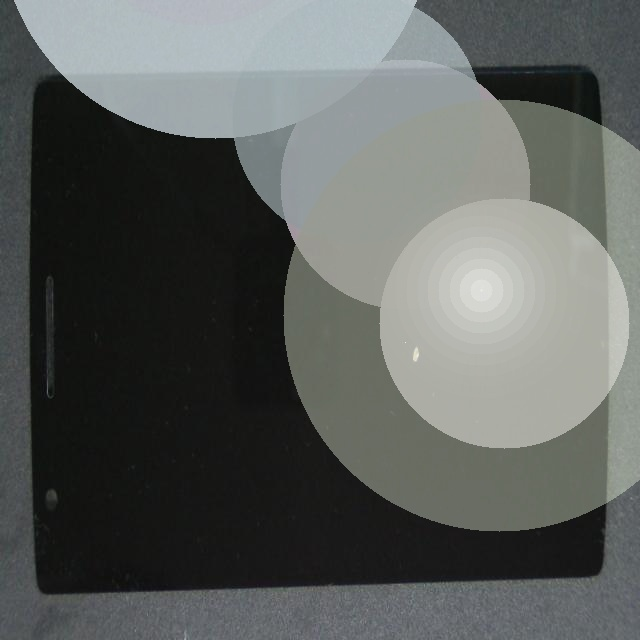stain: (199, 199, 599, 597)
